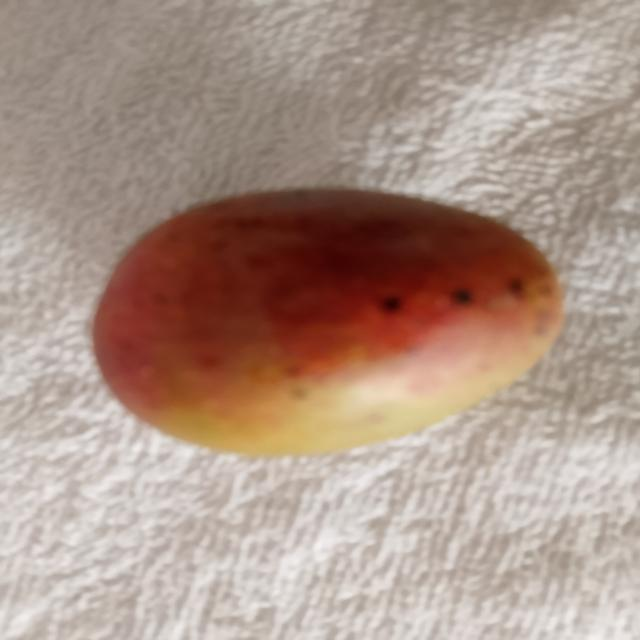mango: (95, 191, 562, 454)
